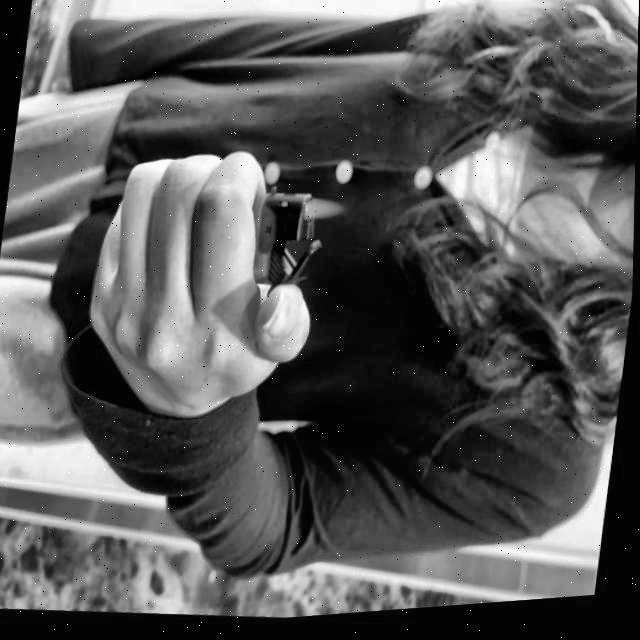Fire: (307, 198, 347, 232)
